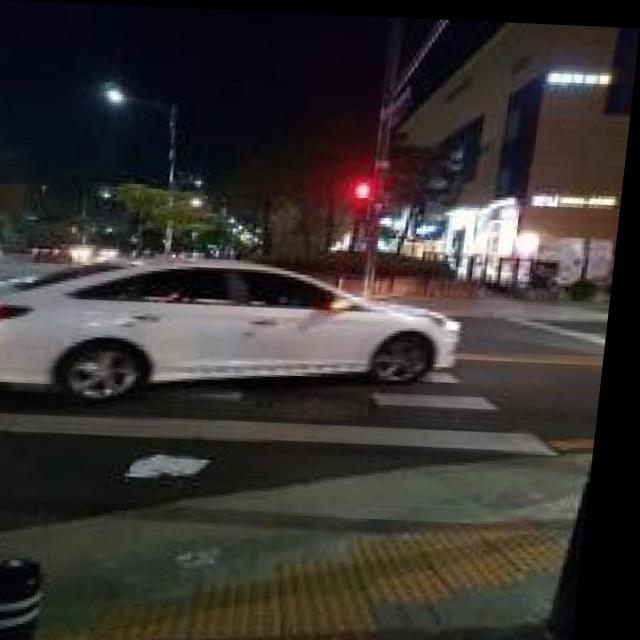zebra: (200, 379, 555, 459)
